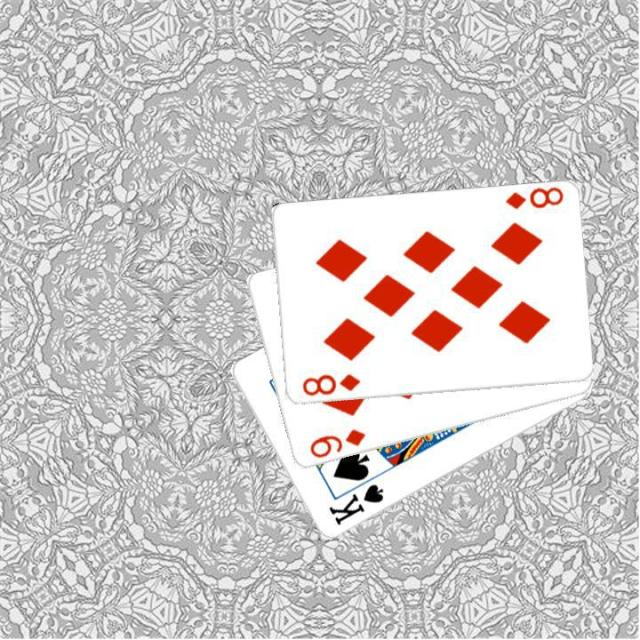8D: (500, 184, 564, 212), (298, 371, 362, 398)
9D: (305, 425, 367, 460)
KS: (324, 480, 386, 528)
